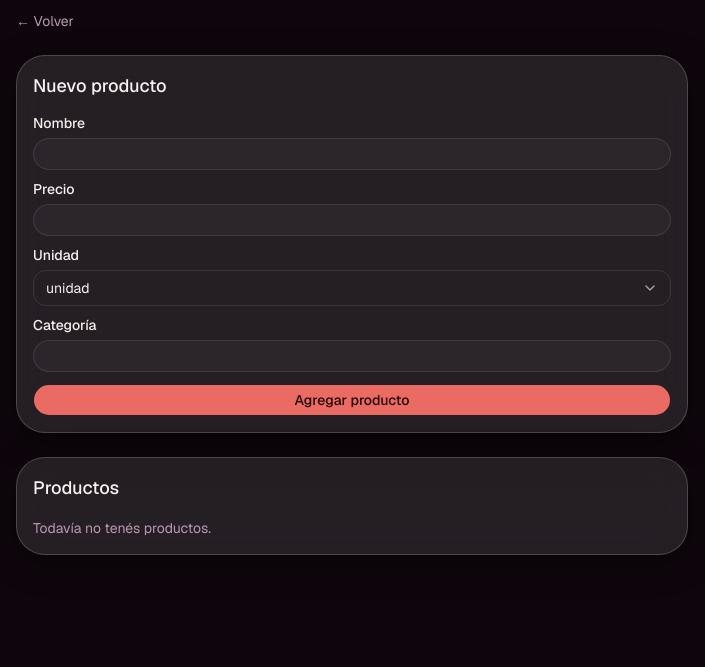
Test: ProductsPage › creates a product
Check: the text "Todavía no tenés productos." is shown, box [33, 519, 211, 537]
In the field labelled "Nombre": (352, 154) [33, 138, 671, 170], type "Palta hass"
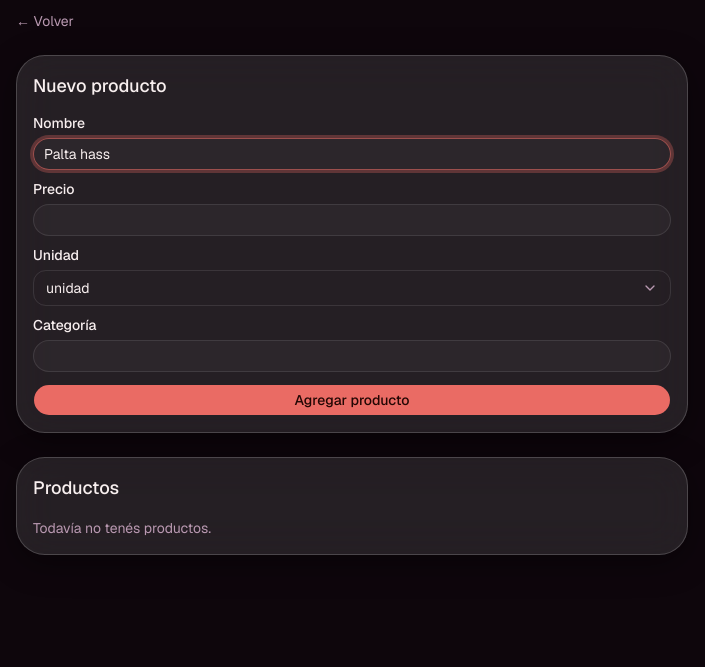
In the field labelled "Precio": (352, 220) [33, 204, 671, 236], type "5.00"
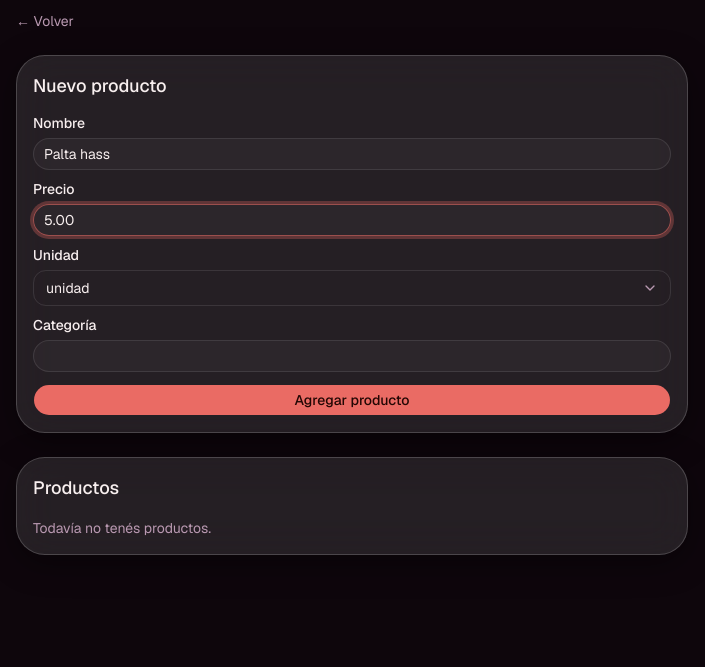
Click the button "Agregar producto": (352, 400) [33, 384, 671, 416]
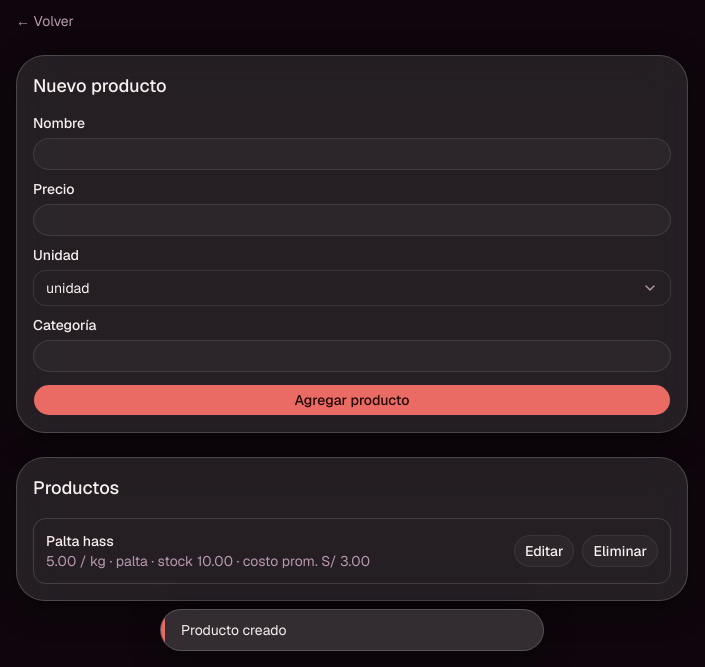
Check: the text "Palta hass" is shown, box [46, 532, 114, 550]
